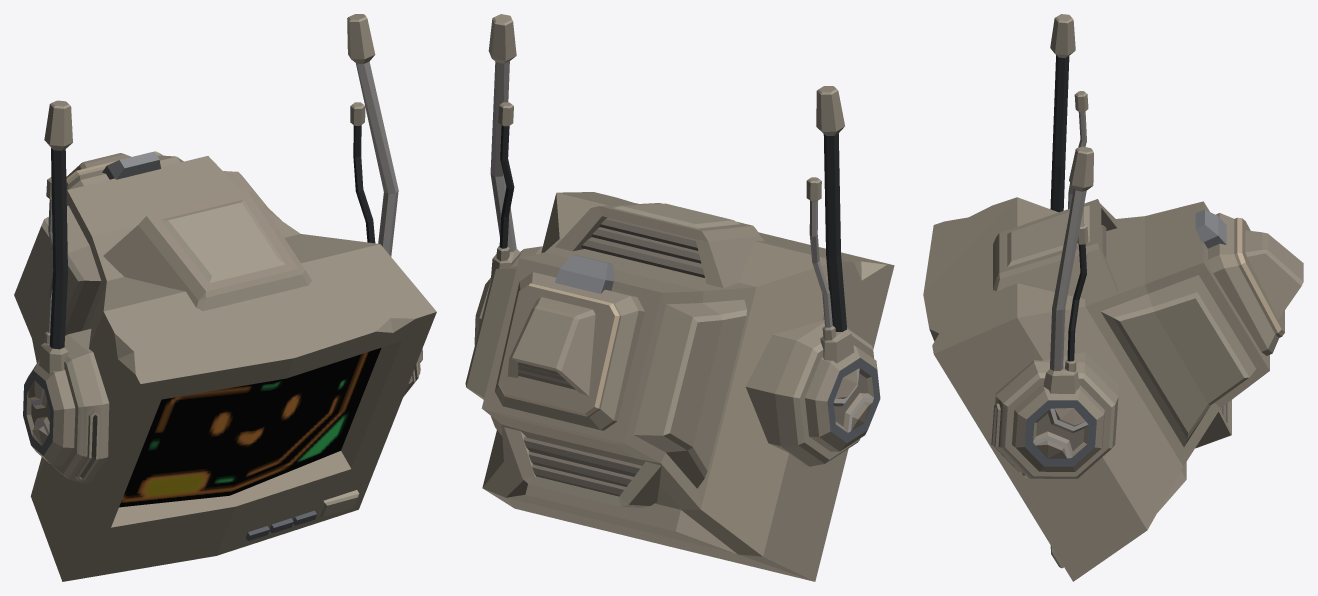
File: SM_Mech_Head_01_Armor_Helmet_06.fbx
3 renders of one model, left to right at view 1: azimuth 30°, elevation 25°; view 2: azimuth 150°, elevation 25°; view 3: azimuth 270°, elevation 25°, orthographic. The views are drawn at different scales.
Visible parts, largest first — view 1: SM_Mech_Head_01_Armor_Helmet_06; view 2: SM_Mech_Head_01_Armor_Helmet_06; view 3: SM_Mech_Head_01_Armor_Helmet_06.
Boxes of the visible parts, bbox=[...] form: SM_Mech_Head_01_Armor_Helmet_06: bbox=[14, 14, 436, 581]; SM_Mech_Head_01_Armor_Helmet_06: bbox=[465, 14, 894, 581]; SM_Mech_Head_01_Armor_Helmet_06: bbox=[923, 14, 1303, 581].
Size of the model in its own units: 83.94 by 106 by 83.12.
